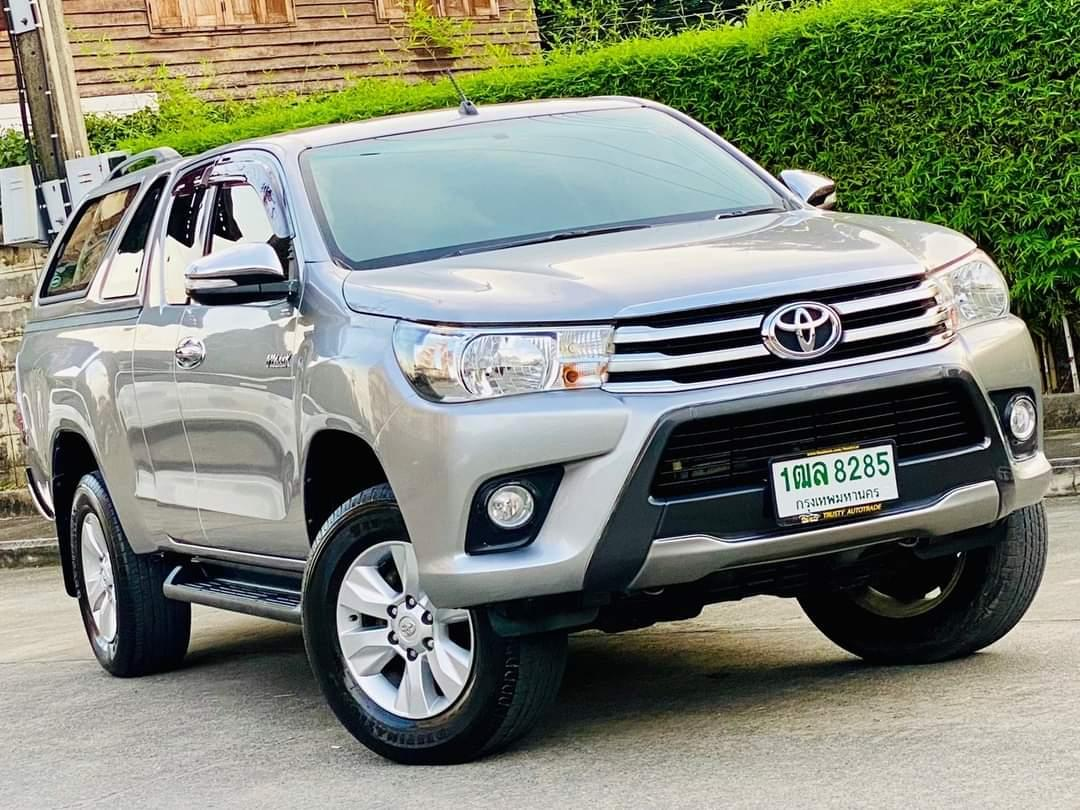license-plate: (763, 438, 908, 531)
